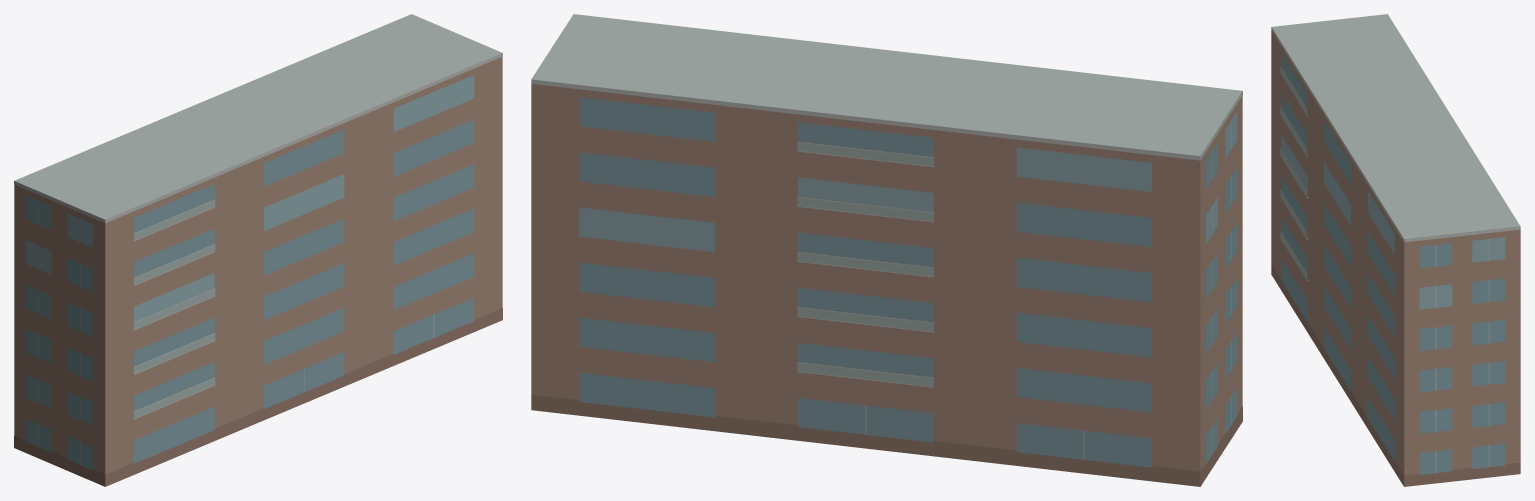
File: survey-upis-32639738.glb
3 views of the same model, side by side, from view 1: azimuth 30°, elevation 25°; view 2: azimuth 150°, elevation 25°; view 3: azimuth 270°, elevation 25° (orthographic). The views are drawn at different scales.
Visible parts, largest first — view 1: survey-upis-32639738.tmp; view 2: survey-upis-32639738.tmp; view 3: survey-upis-32639738.tmp.
Part boxes in pixels (<box>): survey-upis-32639738.tmp: <box>14,14,502,486</box>; survey-upis-32639738.tmp: <box>531,14,1242,486</box>; survey-upis-32639738.tmp: <box>1271,14,1520,486</box>.
Size of the model in its own units: 35.68 by 18.3 by 16.68.
